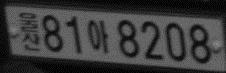0: (165, 21, 187, 61)
1: (64, 16, 85, 54)
2: (140, 20, 162, 60)
8: (41, 14, 64, 52), (189, 24, 211, 63), (117, 19, 139, 57)
아: (87, 19, 109, 53)
울산_V: (19, 11, 40, 51)
